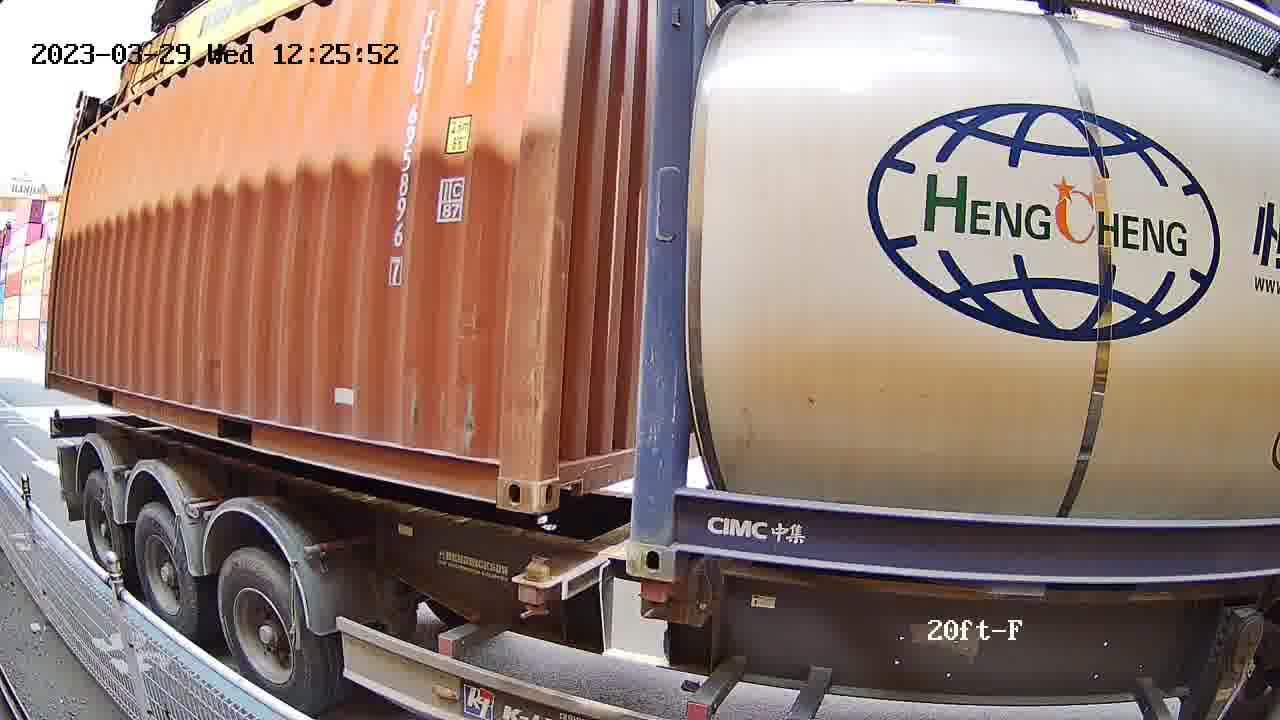Cone: (514, 554, 557, 619), (633, 579, 670, 621)
Hole_L: (627, 494, 722, 581), (539, 438, 588, 514)
Hole_R: (469, 436, 539, 513)
Tire: (218, 550, 318, 713), (134, 506, 197, 632), (85, 473, 123, 572)
